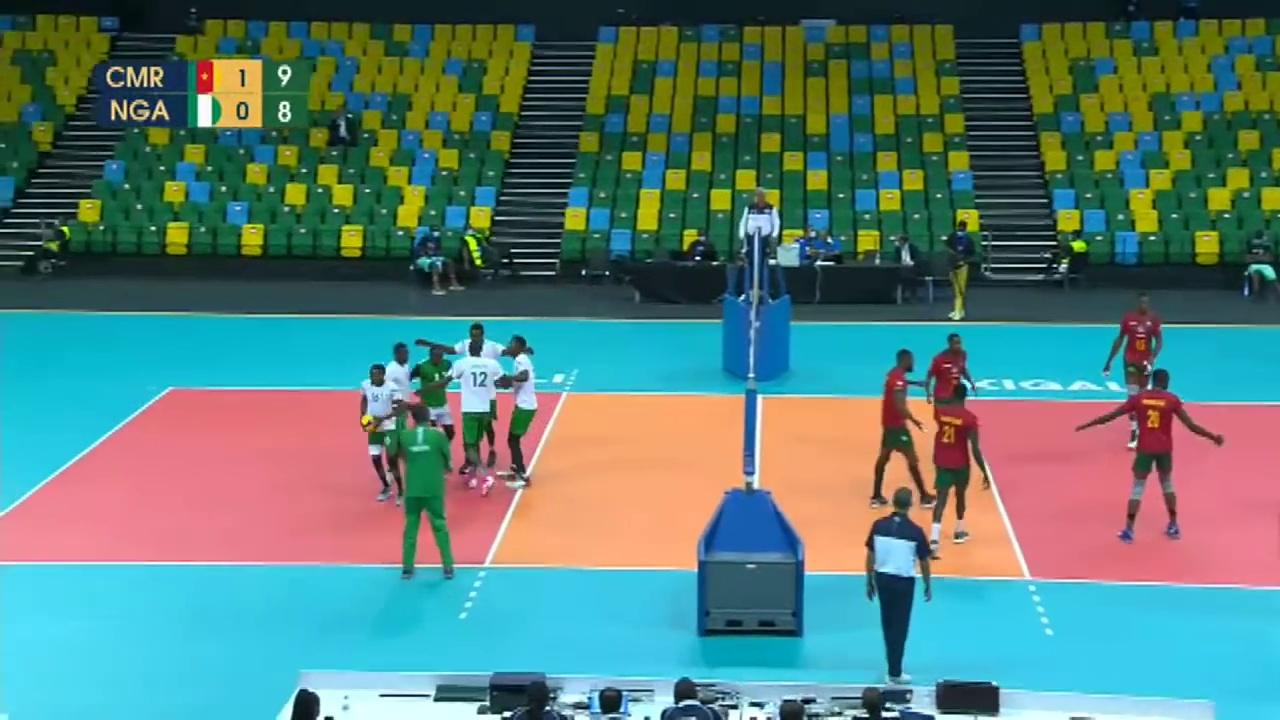player: (1087, 371, 1225, 537), (869, 348, 937, 513), (928, 381, 988, 549), (1110, 286, 1162, 439), (455, 340, 504, 495), (412, 341, 463, 481), (501, 336, 544, 491), (926, 329, 975, 465), (359, 367, 403, 500), (460, 324, 499, 473), (384, 341, 420, 488)
refree: (863, 488, 934, 687), (739, 184, 781, 282)
